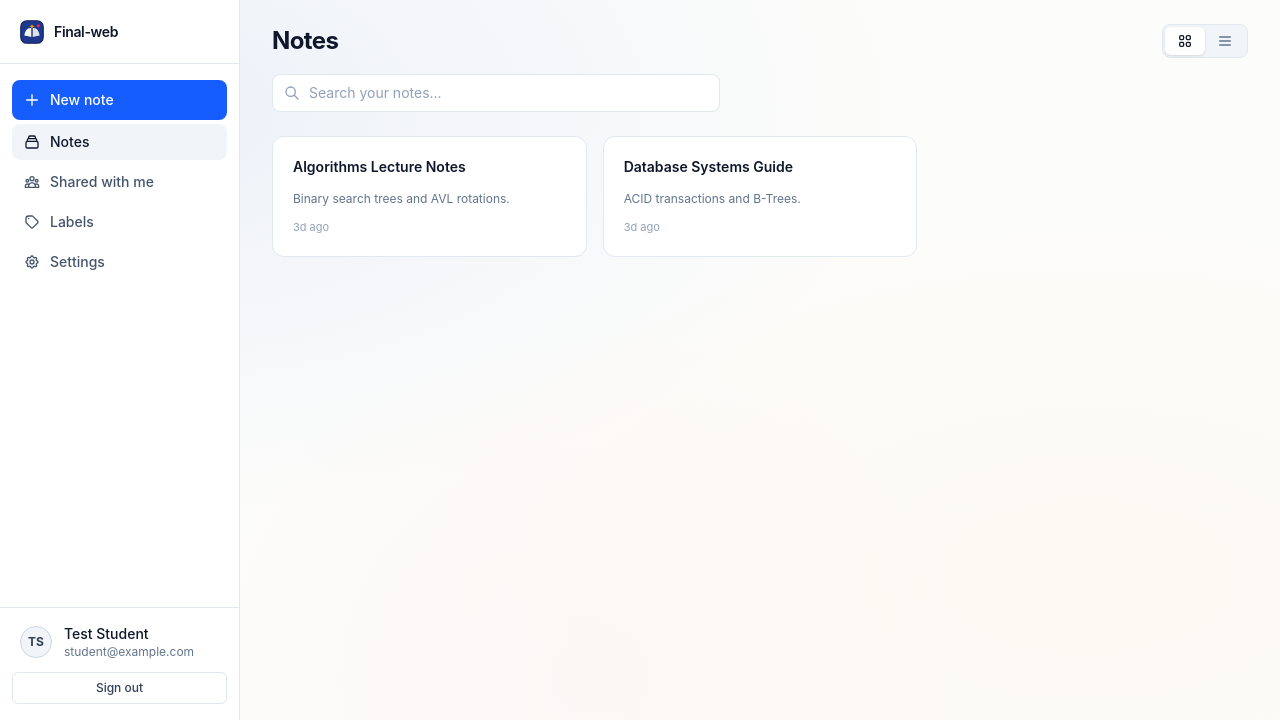
Test case: NOTE-07 Live Search Tests › restores normal collection when search is cleared
Check: the number of buttons with test id "note-card" is 2, box [272,136,587,256]; [603,136,917,256]
Type "algorithm" into the field with test id "search-input" at (496, 93), box [272,74,720,112]
Wait 300 ms
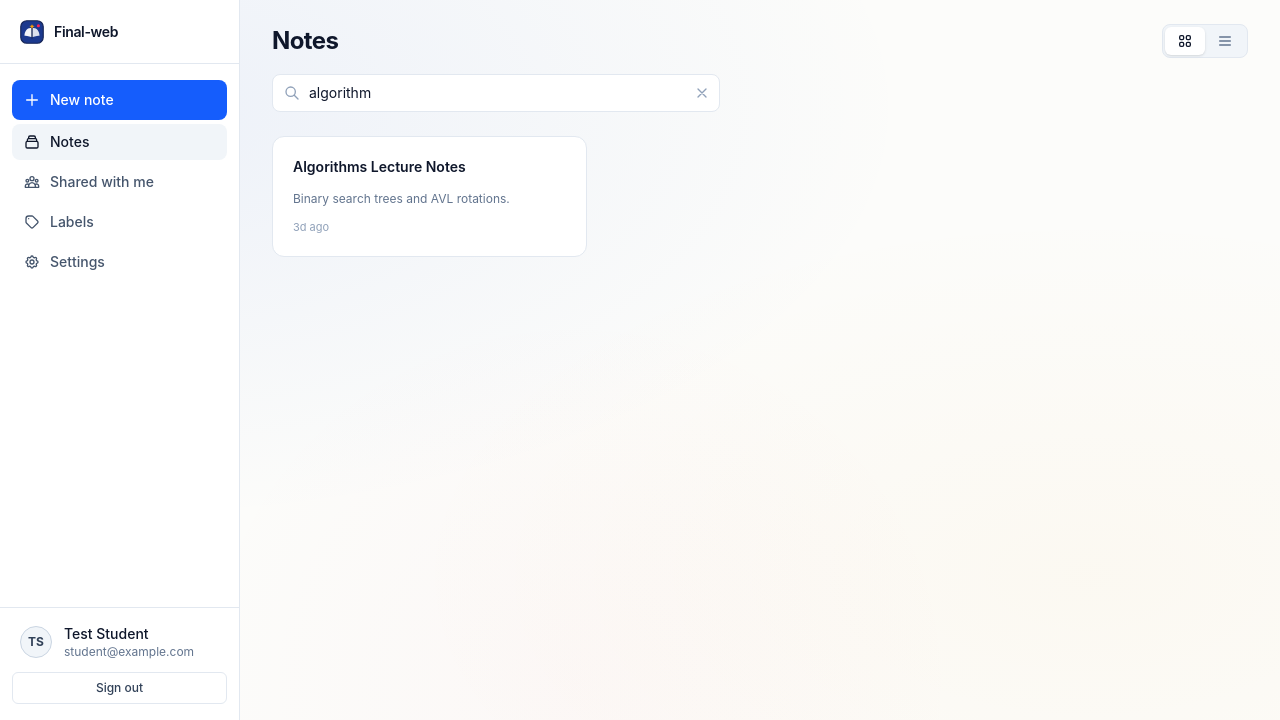
Check: the button with test id "clear-search-button" is shown
Click the button with test id "clear-search-button" at (707, 93), box [694,74,720,112]
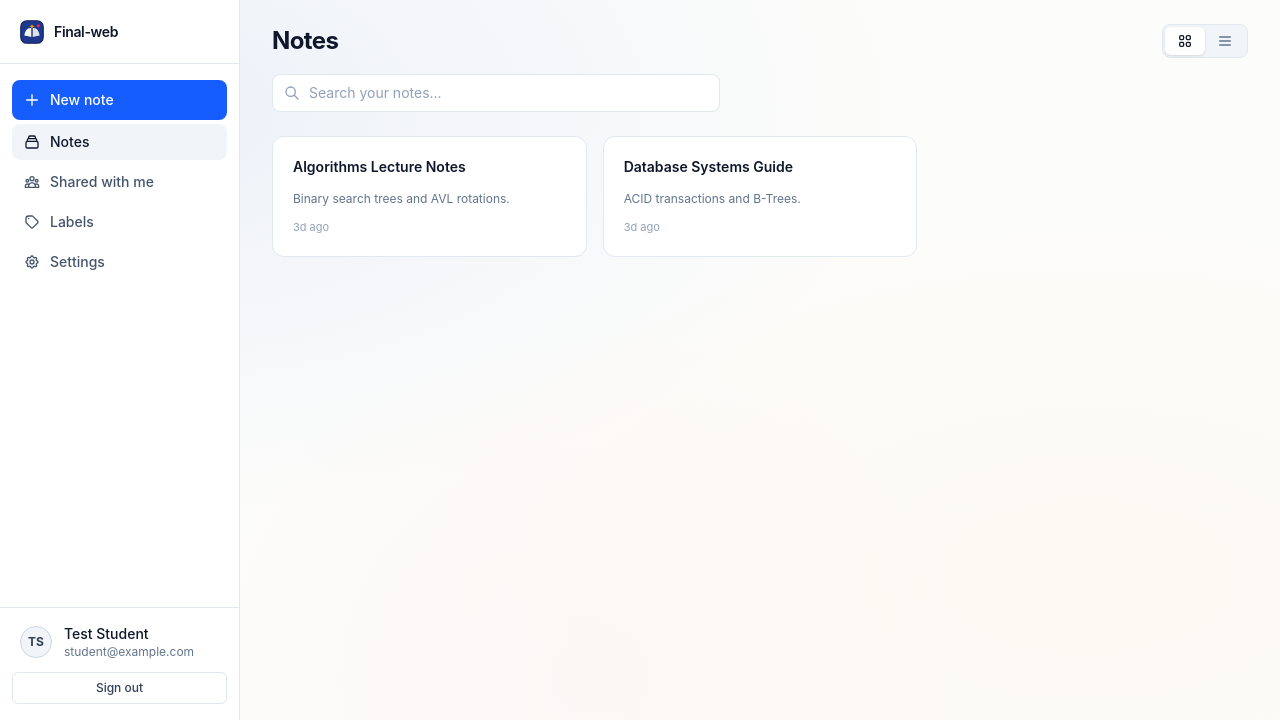
Check: the field with test id "search-input" is empty, box [272,74,720,112]
Check: the number of buttons with test id "note-card" is 2, box [272,136,587,256]; [603,136,917,256]
